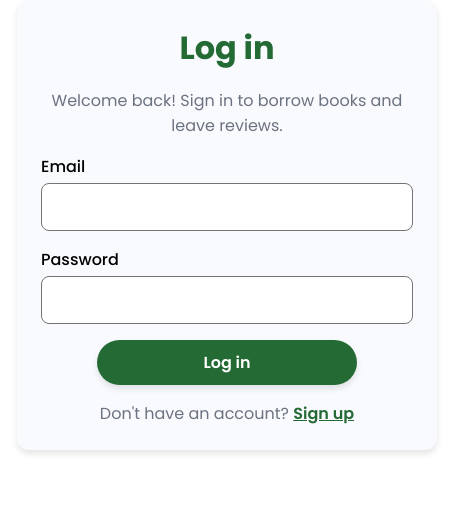
Test case: LoginPage (integration) › shows a server error message when the backend responds with 401
The width and height of the screenshot is (455, 513).
Type "wrong@email.com" into the field labelled "Email" at (227, 207), box [41, 183, 413, 231]
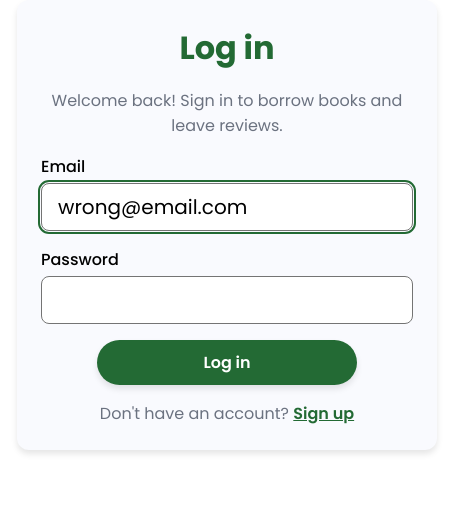
Type "wrongpass" into the password field labelled "Password" at (227, 300), box [41, 276, 413, 324]
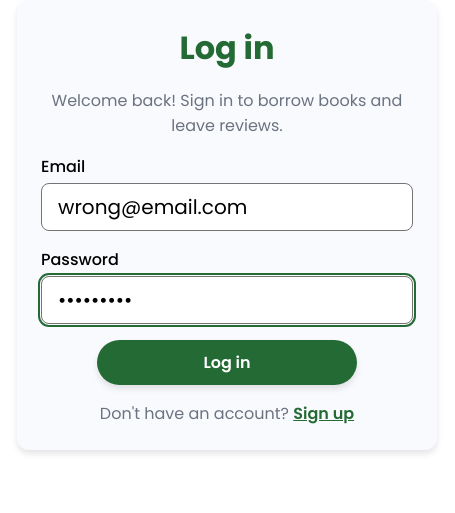
Click the button "Log in" at (227, 362), box [97, 340, 357, 385]
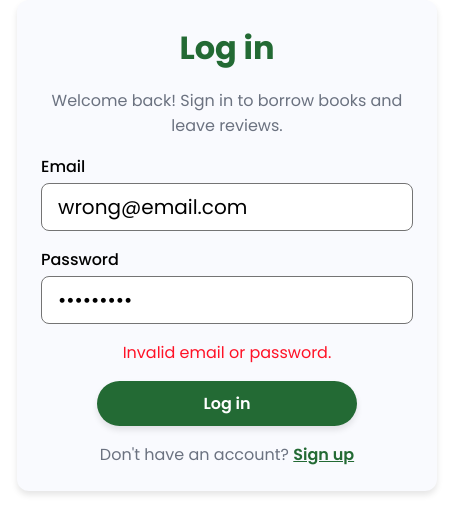
Expected: the message reads "Invalid email or password.", [123, 341, 331, 364]
